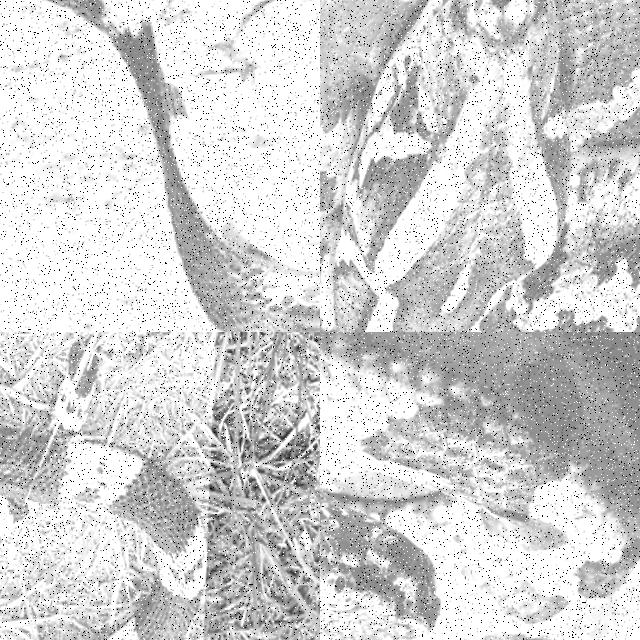Naja siamensis: (44, 0, 319, 331), (0, 427, 205, 639)
Ovophis monticola: (320, 332, 639, 639)
Python bivittatus: (320, 0, 639, 331)
snake: (320, 0, 639, 331), (320, 332, 639, 639), (44, 0, 319, 331), (0, 427, 205, 639)
